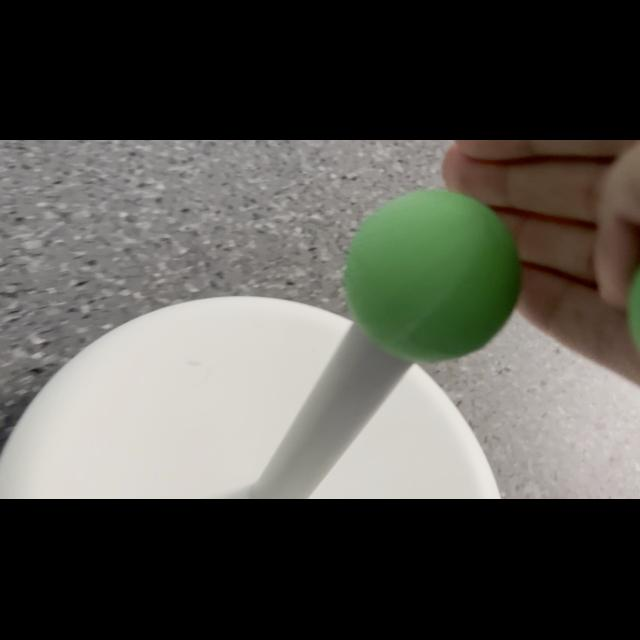objects: (340, 186, 526, 364)
